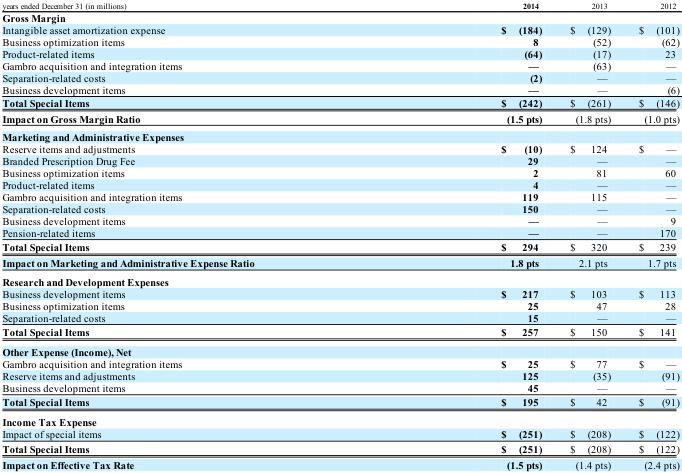table: (1, 0, 678, 469)
table column: (1, 0, 377, 469), (377, 0, 555, 469), (555, 0, 624, 469), (624, 0, 678, 469)
table column header: (1, 0, 678, 10)
table projected row header: (1, 271, 678, 287), (1, 341, 678, 357), (1, 411, 678, 427), (1, 127, 678, 142), (1, 10, 678, 23)
table row: (1, 110, 678, 127), (1, 254, 678, 271), (1, 324, 678, 341), (1, 394, 678, 411), (1, 271, 678, 287), (1, 341, 678, 357), (1, 411, 678, 427), (1, 95, 678, 110), (1, 127, 678, 142), (1, 239, 678, 254), (1, 441, 678, 456), (1, 427, 678, 441), (1, 10, 678, 23), (1, 226, 678, 239), (1, 311, 678, 324), (1, 381, 678, 394), (1, 456, 678, 469), (1, 23, 678, 35), (1, 35, 678, 47), (1, 47, 678, 59), (1, 59, 678, 71), (1, 71, 678, 83), (1, 83, 678, 95), (1, 142, 678, 154), (1, 154, 678, 166), (1, 166, 678, 178), (1, 178, 678, 190), (1, 190, 678, 202), (1, 202, 678, 214), (1, 214, 678, 226), (1, 287, 678, 299), (1, 299, 678, 311), (1, 357, 678, 369), (1, 369, 678, 381), (1, 0, 678, 10)
